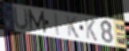8: (100, 20, 114, 44)
I: (53, 11, 61, 37)
K: (66, 15, 80, 40), (84, 18, 98, 43)
M: (27, 8, 47, 34)
U: (12, 7, 30, 31)
